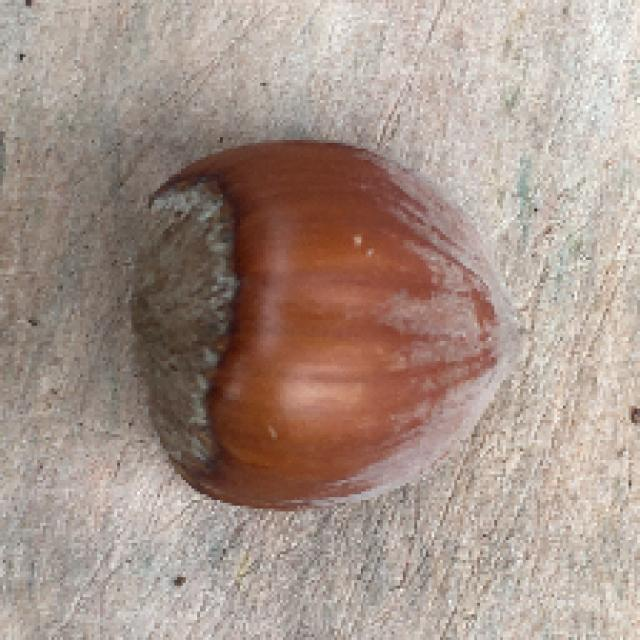qualityHazelnut: (129, 136, 519, 519)
